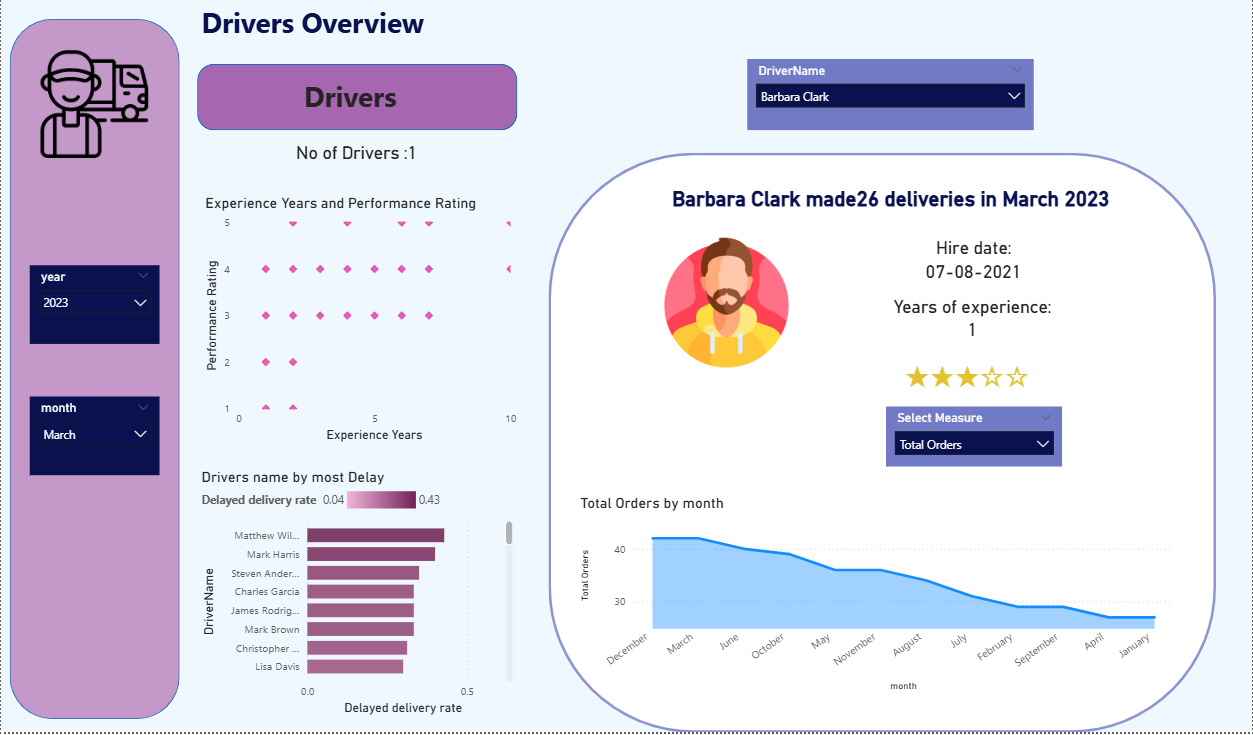

The page's visual inventory and layout, read from the dashboard file:
{"tool":"powerbi","page":{"name":"Drivers","canvas":[1450,850],"ordinal":1},"visuals":[{"type":"shape","box":[9.7,22.6,196.8,811.3],"z":0},{"type":"textbox","box":[227.4,0,375.2,59.4],"z":1000},{"type":"slicer","fields":{"Values":["date tabel.year"]},"box":[33.3,308.5,150.6,91.3],"z":2000},{"type":"slicer","fields":{"Values":["date tabel.month"]},"box":[33.3,460.6,150.6,91.3],"z":3000},{"type":"shape","box":[227.4,75.3,370.8,76.8],"z":4000},{"type":"textbox","box":[346.2,85.5,134.7,57.9],"z":5000},{"type":"card","fields":{"Values":["Drivers.NO of dri"]},"box":[246.3,152.1,331.7,52.1],"z":6000},{"type":"scatterChart","fields":{"Y":["Drivers.Performance Rating"],"X":["Drivers.Experience Years"]},"box":[231.8,226,370.8,292.6],"z":7000},{"type":"clusteredBarChart","title":"Drivers name by most Delay","fields":{"Category":["Drivers.DriverName"],"Y":["Orders.Delayed delivery rate"]},"box":[227.4,543.2,370.8,291.2],"z":8000},{"type":"slicer","fields":{"Values":["Drivers.DriverName"]},"box":[864.8,69.5,331.7,82.6],"z":9000},{"type":"shape","box":[634.5,178.2,773.5,672.1],"z":10000},{"type":"card","fields":{"Values":["Drivers.titel drivers"]},"box":[750,204.3,612.9,51.4],"z":11000},{"type":"card","title":"Hire date: ","fields":{"Values":["Min(Drivers.Hire Date)"]},"box":[1022.7,276.7,208.6,55],"z":12000},{"type":"card","title":"Years of experience:","fields":{"Values":["CountNonNull(Drivers.Experience Years)"]},"box":[1021.2,344.8,208.6,55],"z":13000},{"type":"card","title":"Hire date: ","fields":{"Values":["Drivers.star"]},"box":[1015.4,399.8,208.6,72.4],"z":14000},{"type":"image","box":[750.3,276.7,181.1,150.6],"z":15000},{"type":"stackedAreaChart","fields":{"Y":["Orders.On time Delivery Rate"],"Category":["date tabel.month"]},"box":[666.3,573.6,696.7,233.2],"z":16000},{"type":"slicer","fields":{"Values":["Select Measure.Select Measure"]},"box":[1025.6,472.2,204.2,69.5],"z":17000},{"type":"image","box":[29,59.4,157.9,124.6],"z":18000}]}

Visuals, with their boxes in screenshot pixels (x1, y1, x2, y2), scaled from the page's 1450x850 canvas onto the 1253x735 screenshot:
shape: {"x1": 8, "y1": 20, "x2": 178, "y2": 721}
textbox: {"x1": 197, "y1": 0, "x2": 521, "y2": 51}
slicer - date tabel.year: {"x1": 29, "y1": 267, "x2": 159, "y2": 346}
slicer - date tabel.month: {"x1": 29, "y1": 398, "x2": 159, "y2": 477}
shape: {"x1": 197, "y1": 65, "x2": 517, "y2": 132}
textbox: {"x1": 299, "y1": 74, "x2": 416, "y2": 124}
card - Drivers.NO of dri: {"x1": 213, "y1": 132, "x2": 499, "y2": 177}
scatterChart - Drivers.Performance Rating x Drivers.Experience Years: {"x1": 200, "y1": 195, "x2": 521, "y2": 448}
"Drivers name by most Delay" clusteredBarChart: {"x1": 197, "y1": 470, "x2": 517, "y2": 722}
slicer - Drivers.DriverName: {"x1": 747, "y1": 60, "x2": 1034, "y2": 132}
shape: {"x1": 548, "y1": 154, "x2": 1217, "y2": 734}
card - Drivers.titel drivers: {"x1": 648, "y1": 177, "x2": 1178, "y2": 221}
"Hire date: " card: {"x1": 884, "y1": 239, "x2": 1064, "y2": 287}
"Years of experience:" card: {"x1": 882, "y1": 298, "x2": 1063, "y2": 346}
"Hire date: " card: {"x1": 877, "y1": 346, "x2": 1058, "y2": 408}
image: {"x1": 648, "y1": 239, "x2": 805, "y2": 369}
stackedAreaChart - Orders.On time Delivery Rate x date tabel.month: {"x1": 576, "y1": 496, "x2": 1178, "y2": 698}
slicer - Select Measure.Select Measure: {"x1": 886, "y1": 408, "x2": 1063, "y2": 468}
image: {"x1": 25, "y1": 51, "x2": 162, "y2": 159}
